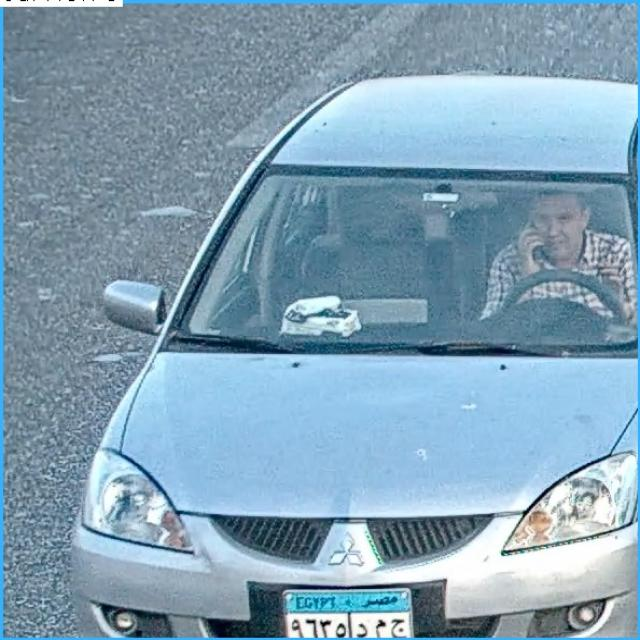windshield: (168, 167, 636, 360)
